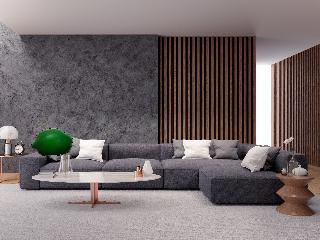lime: (27, 125, 79, 160)
